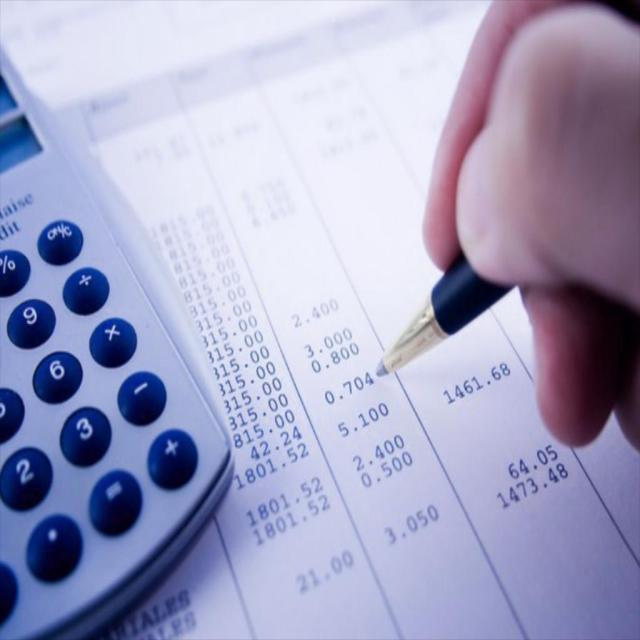Calculator: (0, 43, 240, 639)
